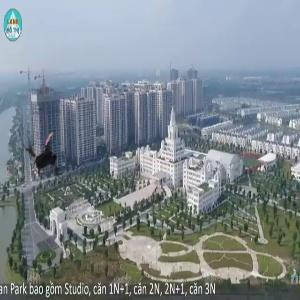drone: (20, 124, 82, 186)
